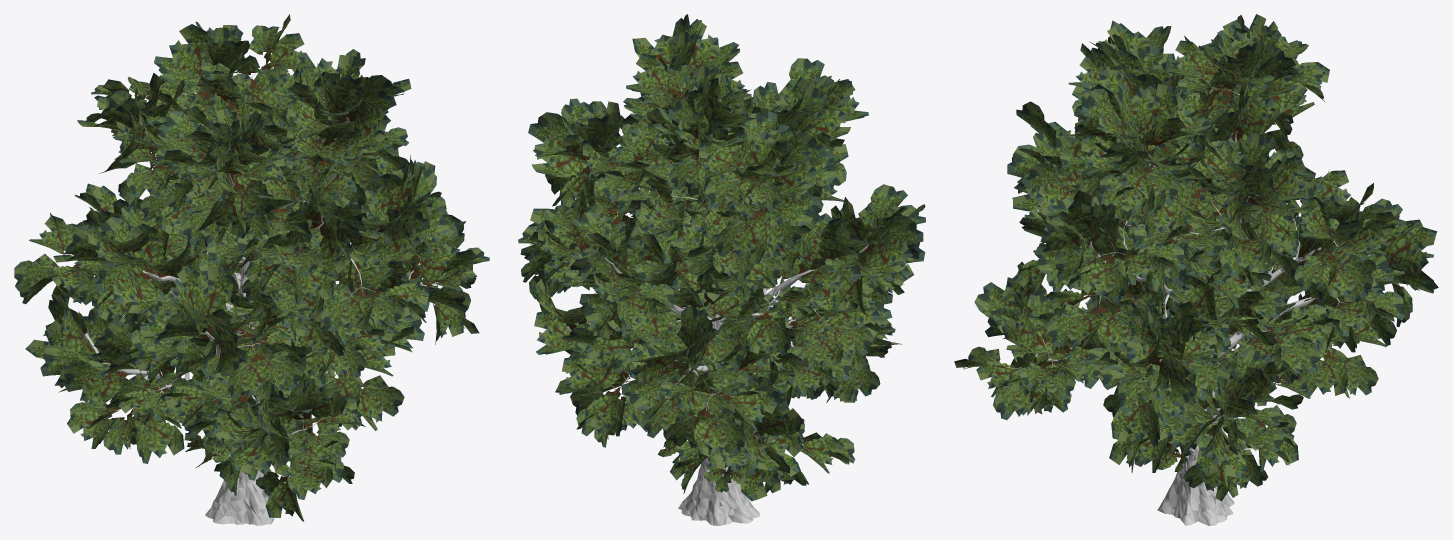
File: tree_LOD0_fix.fbx
3 renders of one model, left to right at view 1: azimuth 30°, elevation 25°; view 2: azimuth 150°, elevation 25°; view 3: azimuth 270°, elevation 25°, orthographic. The views are drawn at different scales.
Parts seen in each view (by area): view 1: cluster, trunk; view 2: cluster, trunk; view 3: cluster, trunk.
Part boxes in pixels (x1,y1,x2,y2): cluster: [14, 14, 489, 521]; trunk: [84, 68, 435, 525]; cluster: [518, 14, 925, 501]; trunk: [565, 88, 868, 525]; cluster: [954, 14, 1438, 501]; trunk: [1006, 88, 1374, 525].
Bounding box in the file's own units: 1271 × 1418 × 1294.
